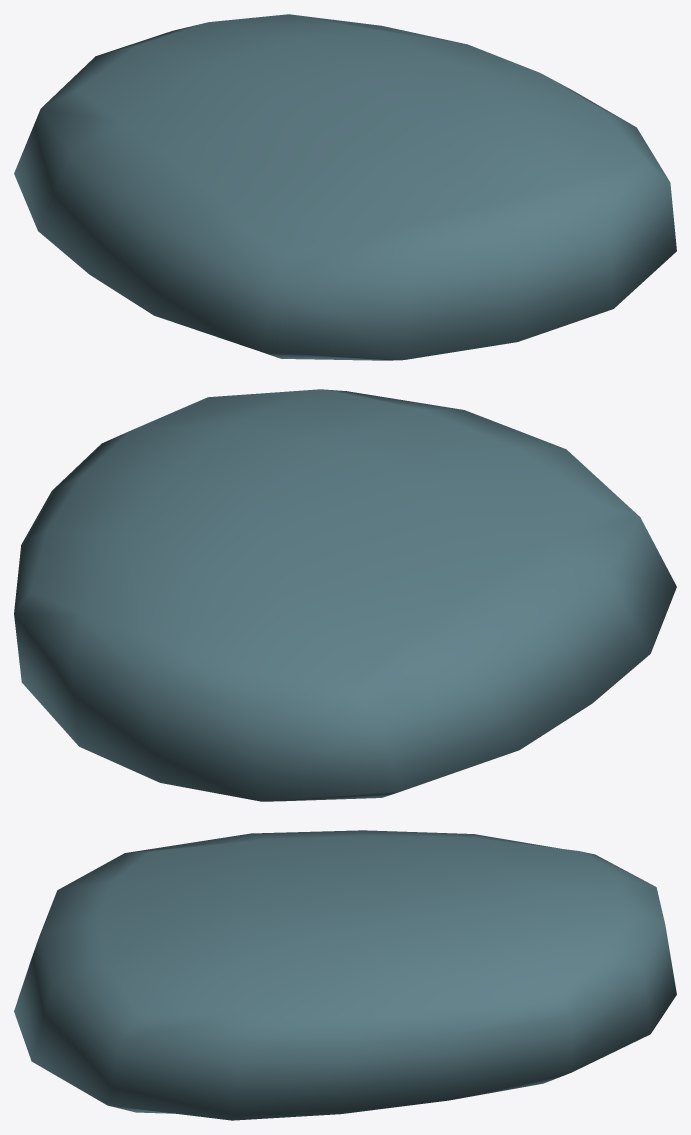
The model's file is Rock_B_02_LOD2.gltf.
3 views of the same model, one above another, from view 1: azimuth 30°, elevation 25°; view 2: azimuth 150°, elevation 25°; view 3: azimuth 270°, elevation 25° (orthographic). The views are drawn at different scales.
Parts seen in each view (by area): view 1: Rock_B_02_LOD2_Cube.755; view 2: Rock_B_02_LOD2_Cube.755; view 3: Rock_B_02_LOD2_Cube.755.
Part boxes in pixels (<box>): Rock_B_02_LOD2_Cube.755: <box>14,14,676,360</box>; Rock_B_02_LOD2_Cube.755: <box>14,389,676,801</box>; Rock_B_02_LOD2_Cube.755: <box>14,830,676,1120</box>.
Size of the model in its own units: 3.2 by 0.98 by 3.74.
Materials: 1 (1 with a texture image).
